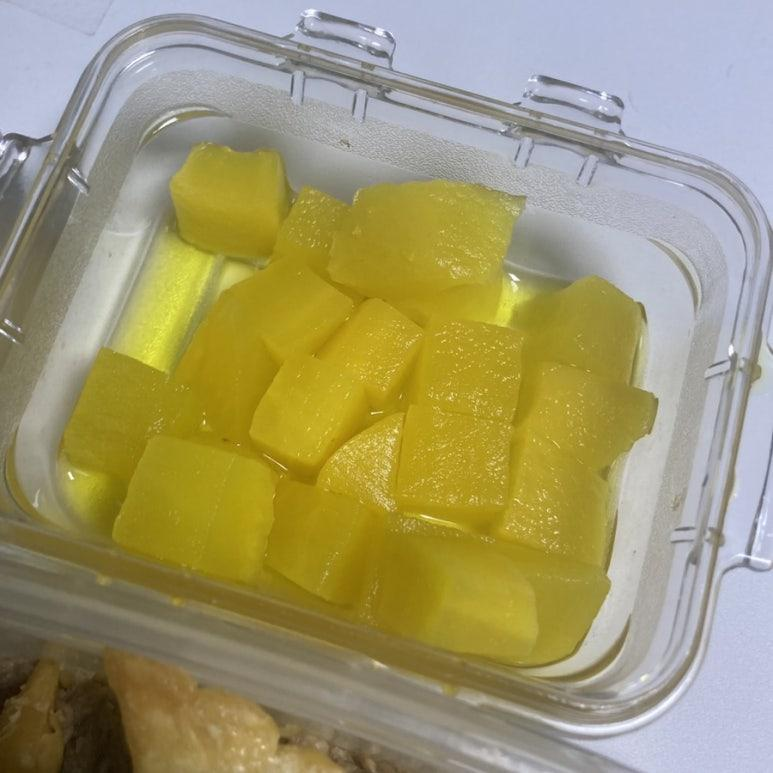Lunch Box: (0, 11, 772, 734), (0, 548, 627, 772)
